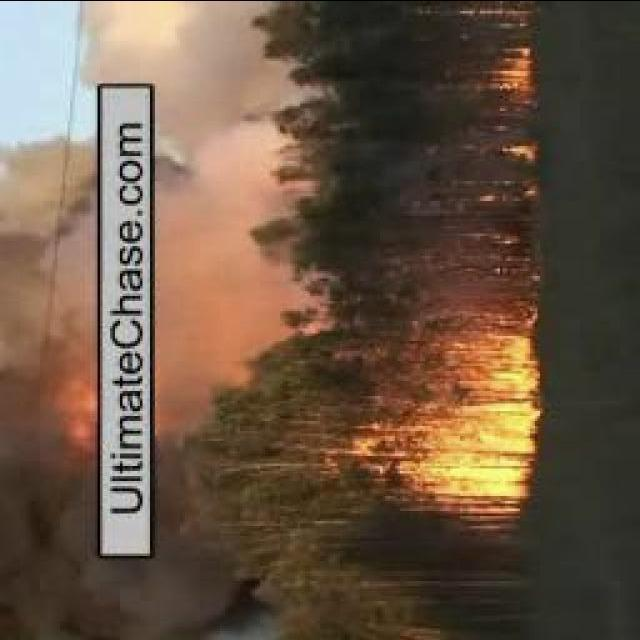Fire: (348, 307, 540, 520), (466, 140, 544, 210), (479, 42, 540, 94)
